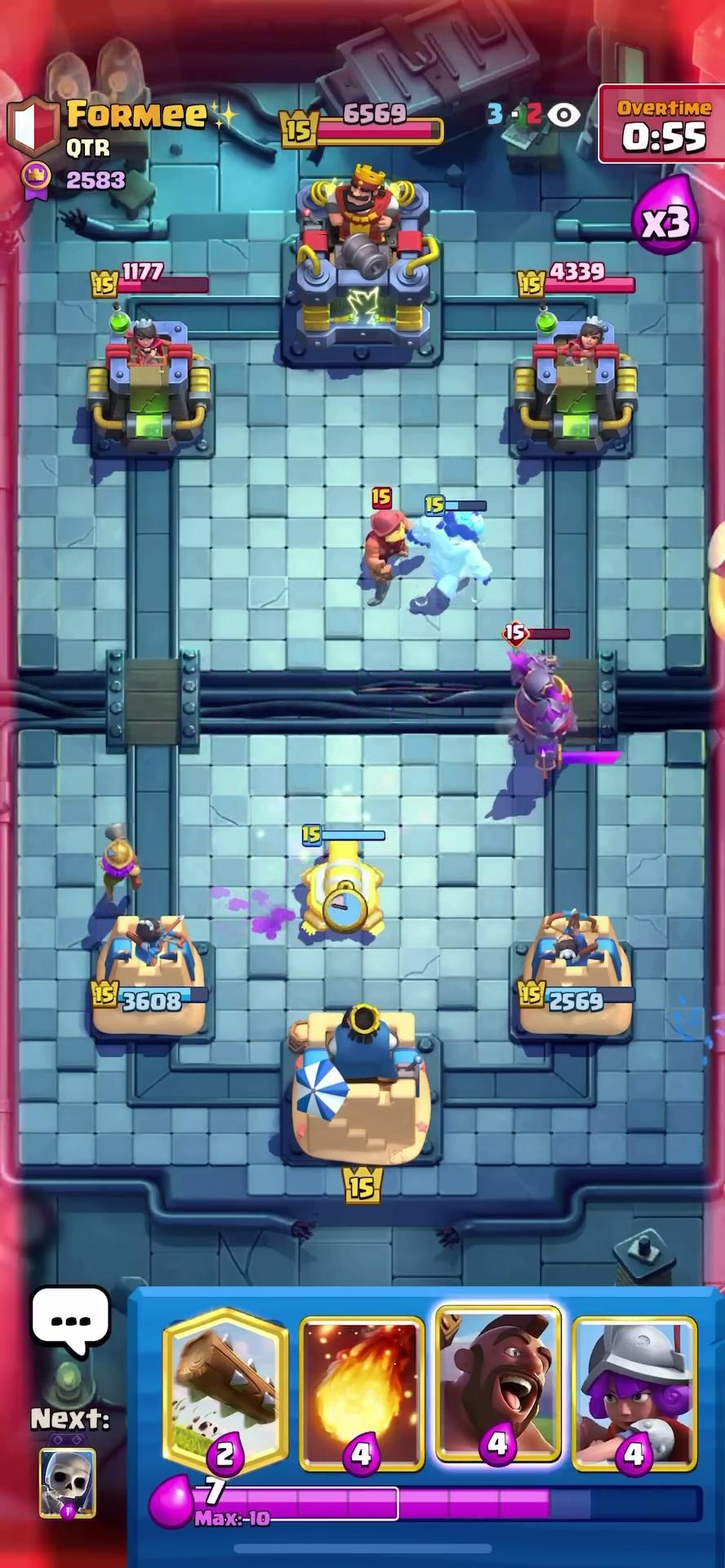cannon: (278, 825, 404, 945)
ice_golem: (400, 484, 516, 621)
musketeer: (78, 811, 169, 911)
